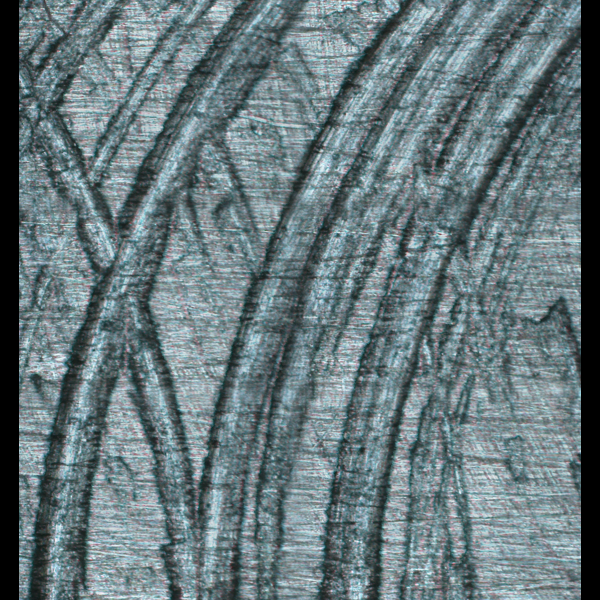d: (23, 2, 580, 600)
